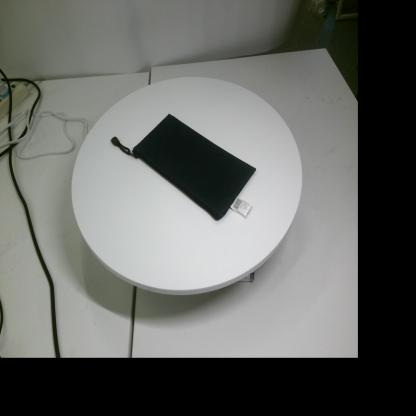Stationery: (111, 114, 256, 220)
